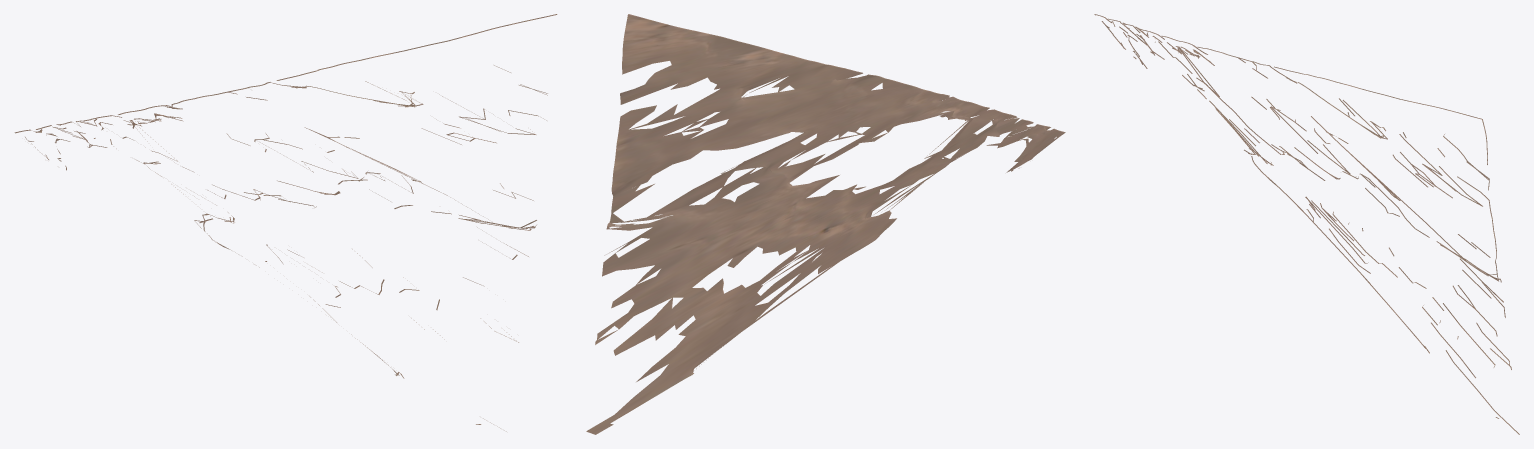
3 renders of one model, left to right at view 1: azimuth 30°, elevation 25°; view 2: azimuth 150°, elevation 25°; view 3: azimuth 330°, elevation 25°, orthographic. The views are drawn at different scales.
Bounding box in the file's own units: 20.18 × 16.58 × 3.42.
1 material, 1 textured.
